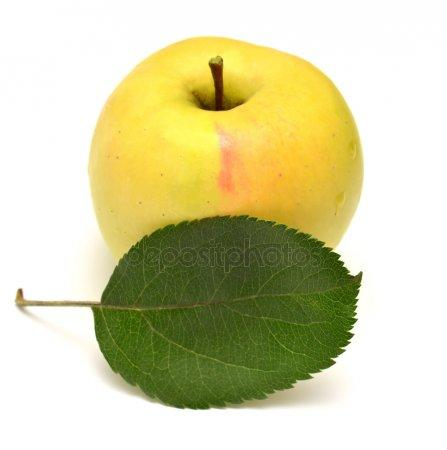Apple leaf: (87, 210, 381, 416)
